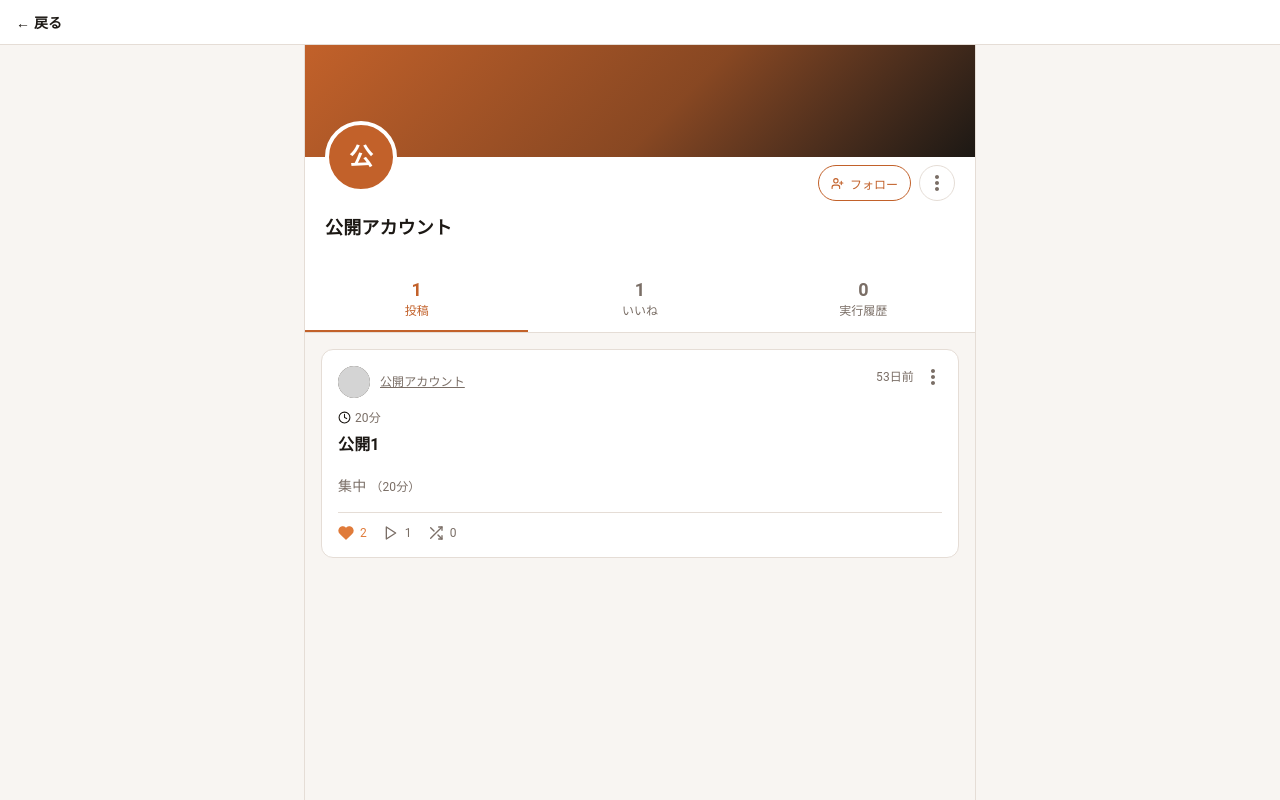
Test: PublicAccountPage › 投稿といいね一覧のハートはフォロー状態でなく閲覧者のlikedに従う
expect the heading "公開1" is shown: met, box [338,435,380,454]
Click the tab "1 いいね" at (640, 301), box [528,271,752,332]
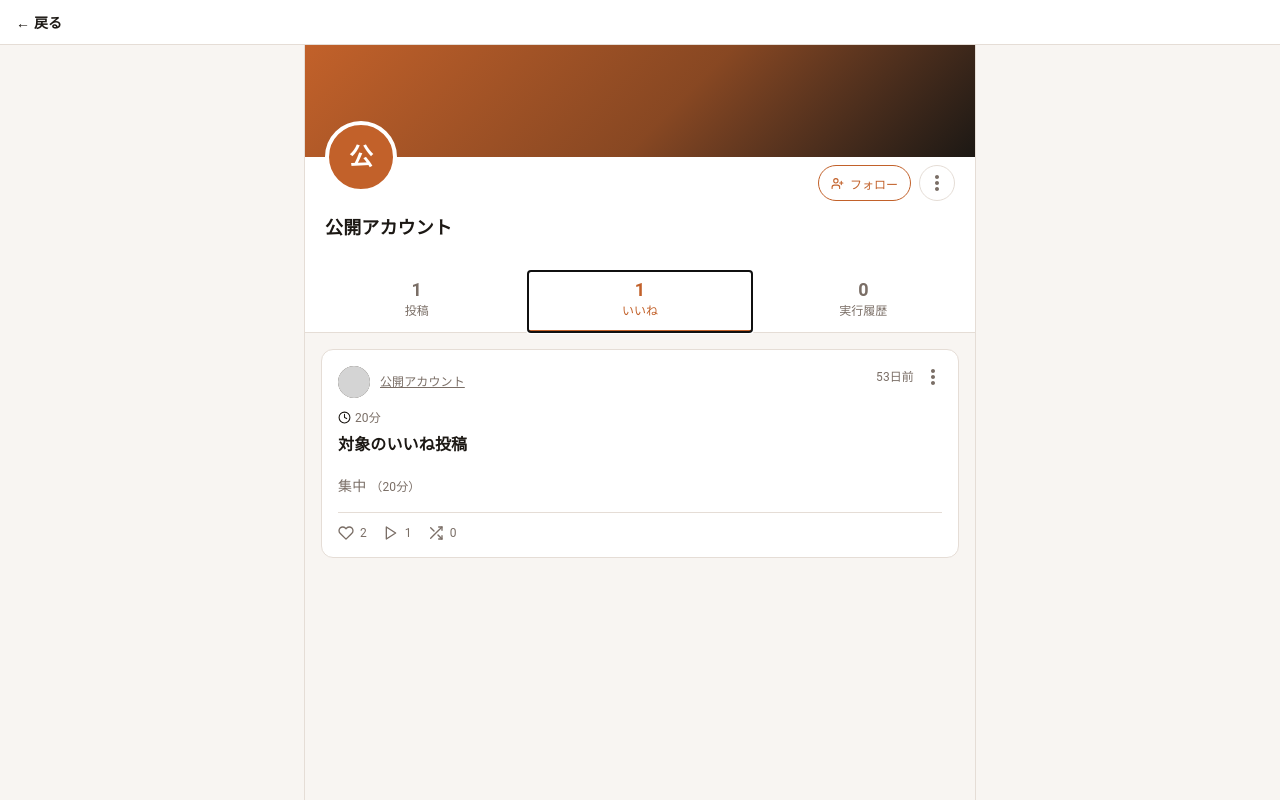
expect the heading "対象のいいね投稿" is shown: met, box [338,435,467,454]
